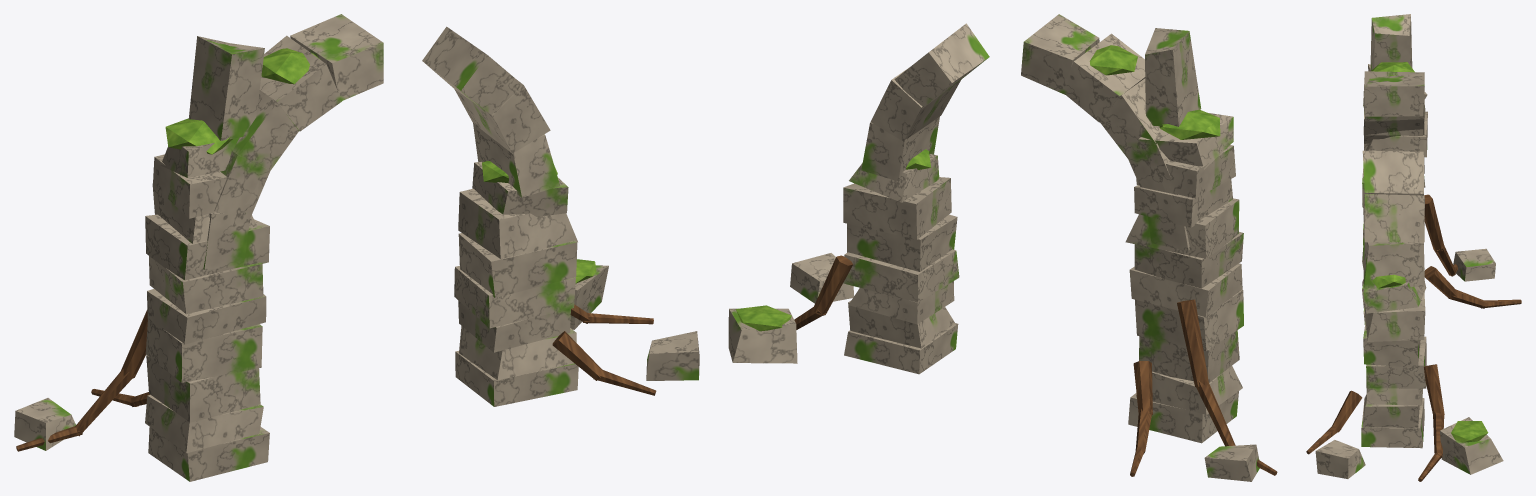
Rendered from arch.glb.
The picture shows the model from 3 angles, left to right: view 1: azimuth 30°, elevation 25°; view 2: azimuth 150°, elevation 25°; view 3: azimuth 270°, elevation 25°; orthographic projection. The views are drawn at different scales.
Visible parts, largest first — view 1: arch; view 2: arch; view 3: arch.
Boxes of the visible parts, box(x1,y1,x2,y2) form: arch: box(14, 14, 699, 481); arch: box(728, 14, 1277, 481); arch: box(1306, 14, 1521, 481).
Bounding box in the file's own units: 11.72 × 7.61 × 4.83.
Materials: 3 (3 with a texture image).
